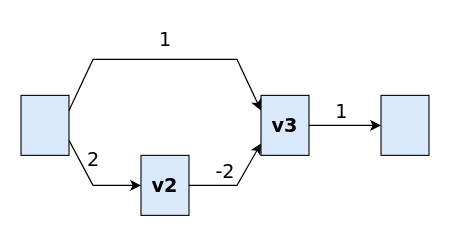
The diagram is 450 pixels wide and 236 high, and some of its shapes have lost their labels. Here are the shapes that lost their labels. From the top down, the centre of each, then its label:
pixel 44 124: v1
pixel 404 124: v4
